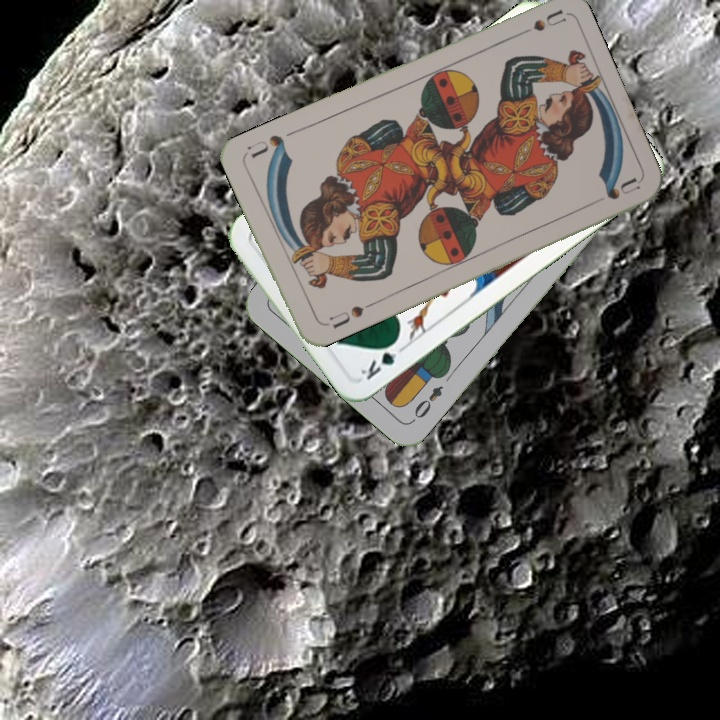EO: (408, 381, 446, 425)
GK: (356, 335, 409, 383)
SU: (509, 6, 567, 41), (325, 301, 366, 332)
